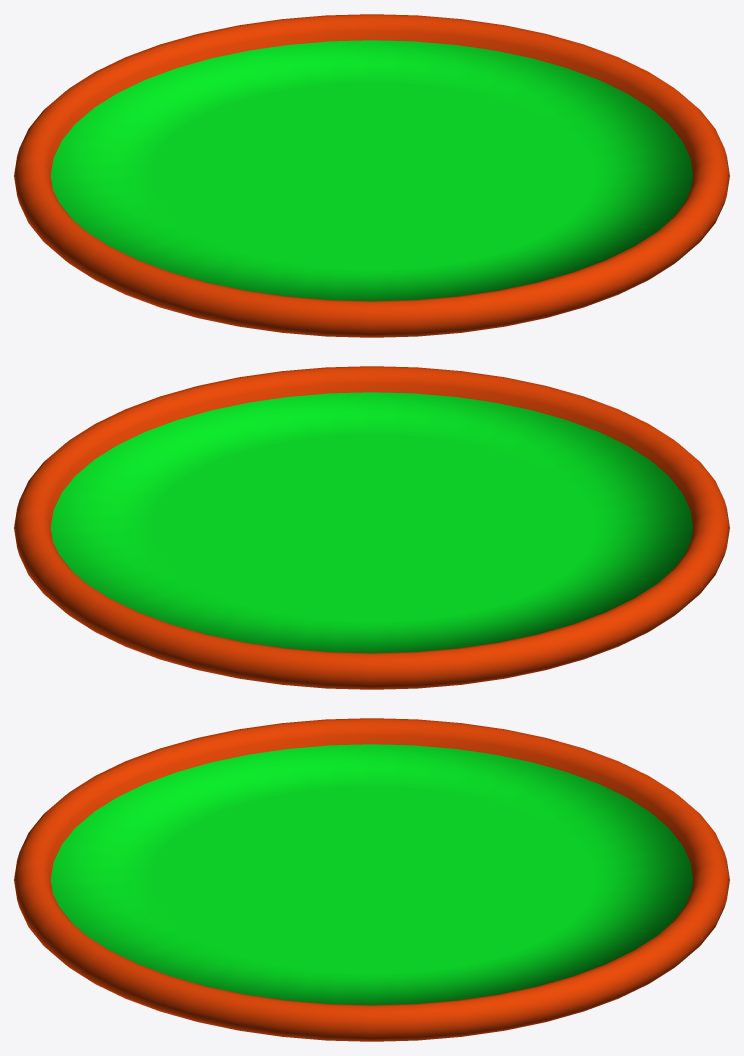
The model's file is huecoArbol.fbx.
3 views of the same model, one above another, from view 1: azimuth 30°, elevation 25°; view 2: azimuth 150°, elevation 25°; view 3: azimuth 270°, elevation 25° (orthographic).
Parts seen in each view (by area): view 1: Torus.001; view 2: Torus.001; view 3: Torus.001.
Boxes of the visible parts, x1,y1,x2,y2 form: Torus.001: (14,14,729,337); Torus.001: (14,366,729,689); Torus.001: (14,718,729,1041).
Bounding box in the file's own units: 1364 × 70 × 1364.
